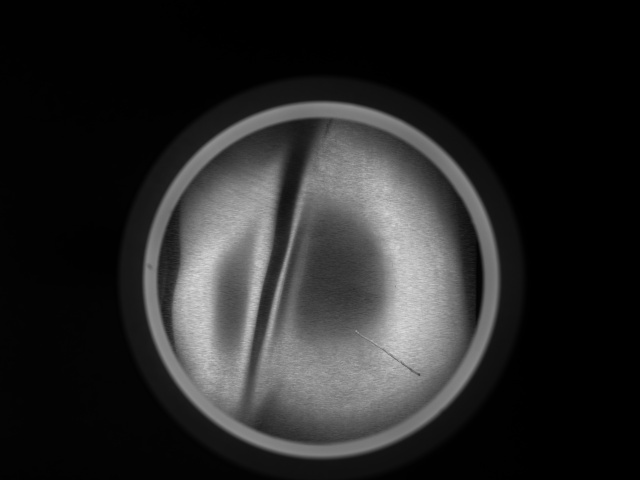ca_shang: (353, 324, 420, 383)
zhe_zhou: (204, 146, 439, 414)
